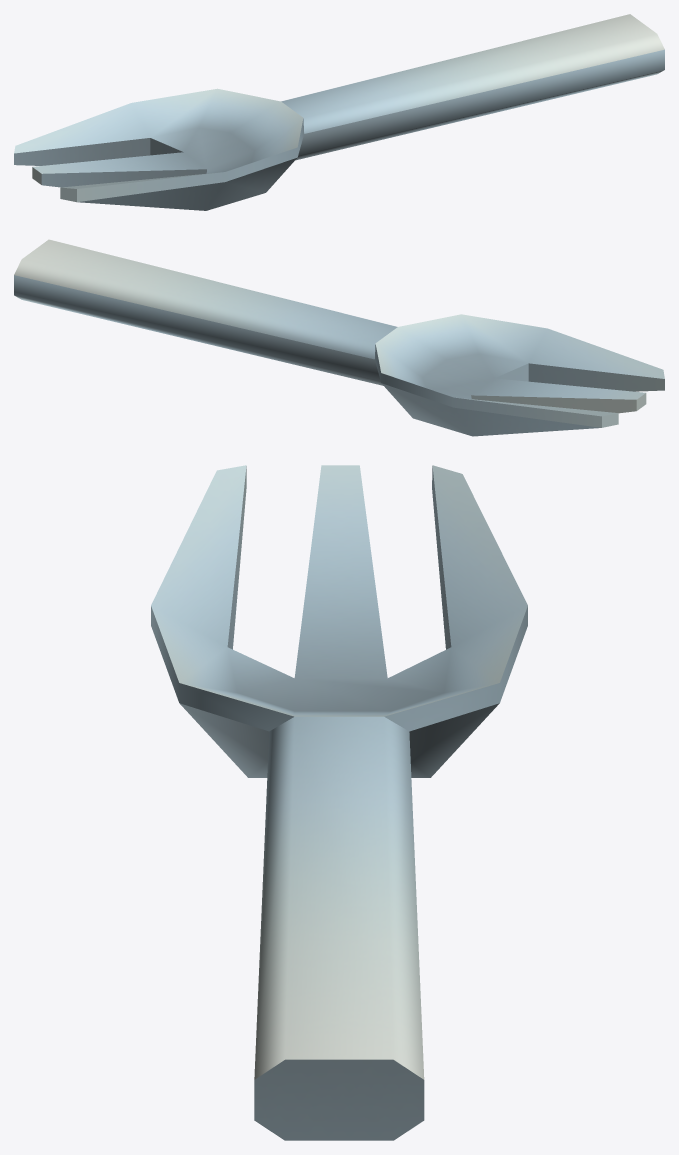
Rendered from fork_cuttlery_silver.fbx.
The picture shows the model from 3 angles, top to bottom: view 1: azimuth 30°, elevation 25°; view 2: azimuth 150°, elevation 25°; view 3: azimuth 270°, elevation 25°; orthographic projection. The views are drawn at different scales.
Visible parts, largest first — view 1: fork_cuttlery_silver; view 2: fork_cuttlery_silver; view 3: fork_cuttlery_silver.
Part boxes in pixels (x1,y1,x2,y2): fork_cuttlery_silver: (14,14,664,210); fork_cuttlery_silver: (14,239,664,436); fork_cuttlery_silver: (151,465,527,1140).
Size of the model in its own units: 35.39 by 3.68 by 9.53.
